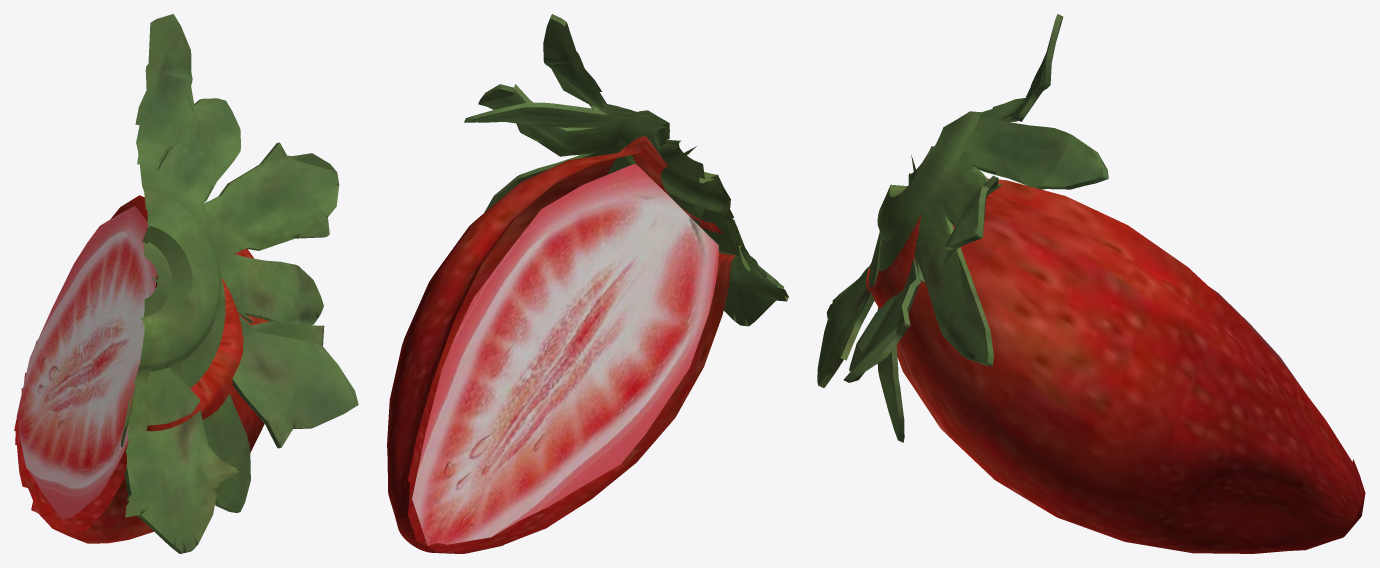
File: strawberry_half.obj
3 renders of one model, left to right at view 1: azimuth 30°, elevation 25°; view 2: azimuth 150°, elevation 25°; view 3: azimuth 270°, elevation 25°, orthographic. The views are drawn at different scales.
Parts seen in each view (by area): view 1: Strawberry__Top02, Line03, Strawberry02; view 2: Line03, Strawberry02, Strawberry__Top02; view 3: Strawberry02, Strawberry__Top02.
Boxes of the visible parts, bbox=[...] form: Strawberry__Top02: bbox=[121, 14, 358, 553]; Line03: bbox=[16, 206, 156, 519]; Strawberry02: bbox=[14, 195, 269, 543]; Line03: bbox=[412, 164, 718, 545]; Strawberry02: bbox=[387, 136, 735, 553]; Strawberry__Top02: bbox=[464, 14, 788, 326]; Strawberry02: bbox=[866, 178, 1365, 553]; Strawberry__Top02: bbox=[817, 14, 1108, 442].
Bounding box in the file's own units: 0.9494 × 1.73 × 1.61.
